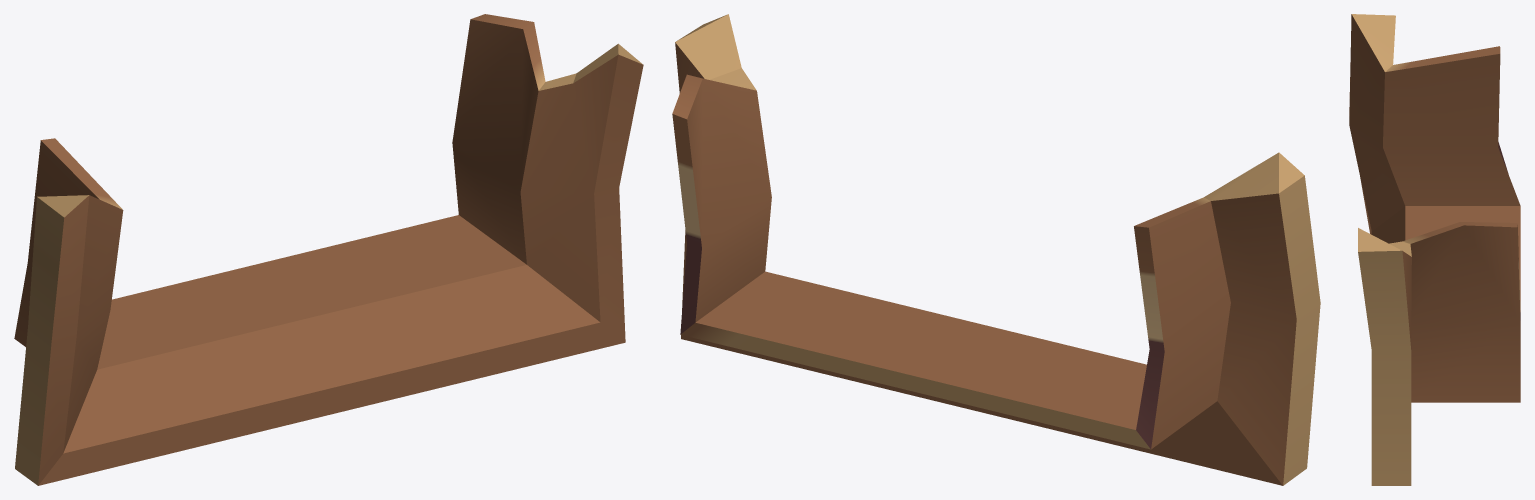
The model's file is DBK_WinSmall_Trim_C_Tile.fbx.
3 views of the same model, side by side, from view 1: azimuth 30°, elevation 25°; view 2: azimuth 150°, elevation 25°; view 3: azimuth 270°, elevation 25° (orthographic). The views are drawn at different scales.
Parts seen in each view (by area): view 1: DBK_WinSmall_Trim_C_Tile; view 2: DBK_WinSmall_Trim_C_Tile; view 3: DBK_WinSmall_Trim_C_Tile.
Boxes of the visible parts, bbox=[...] form: DBK_WinSmall_Trim_C_Tile: bbox=[14, 14, 643, 485]; DBK_WinSmall_Trim_C_Tile: bbox=[672, 14, 1320, 485]; DBK_WinSmall_Trim_C_Tile: bbox=[1349, 14, 1520, 485].
Size of the model in its own units: 81.48 by 38.74 by 23.87.
